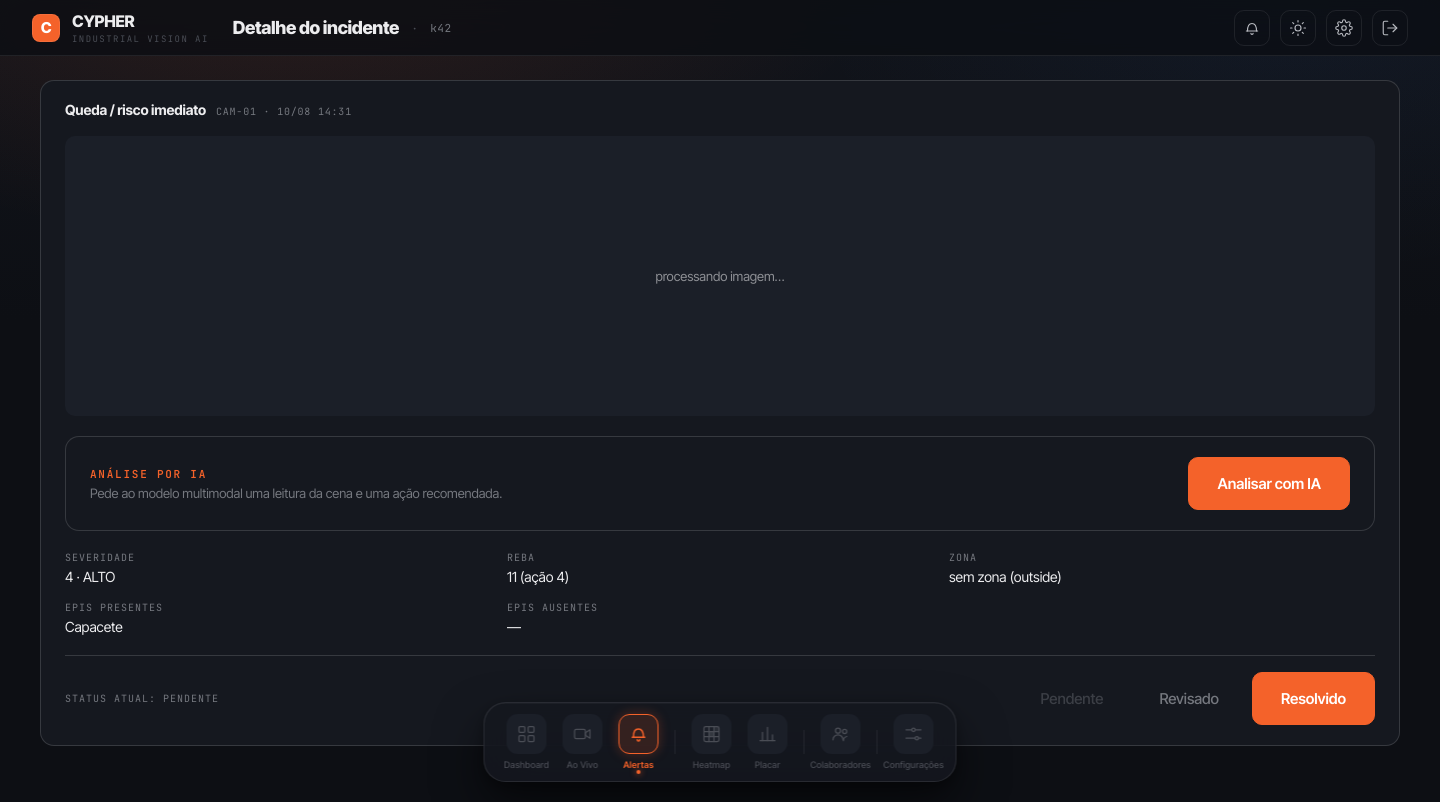
it: IncidentDetailComponent › gestor clica em Analisar com IA e ve o resultado estruturado
This screenshot has width=1440, height=802.
Step 1. Click the button "Analisar com IA" → (1269, 484), box x1=1188 y1=457 x2=1350 y2=510
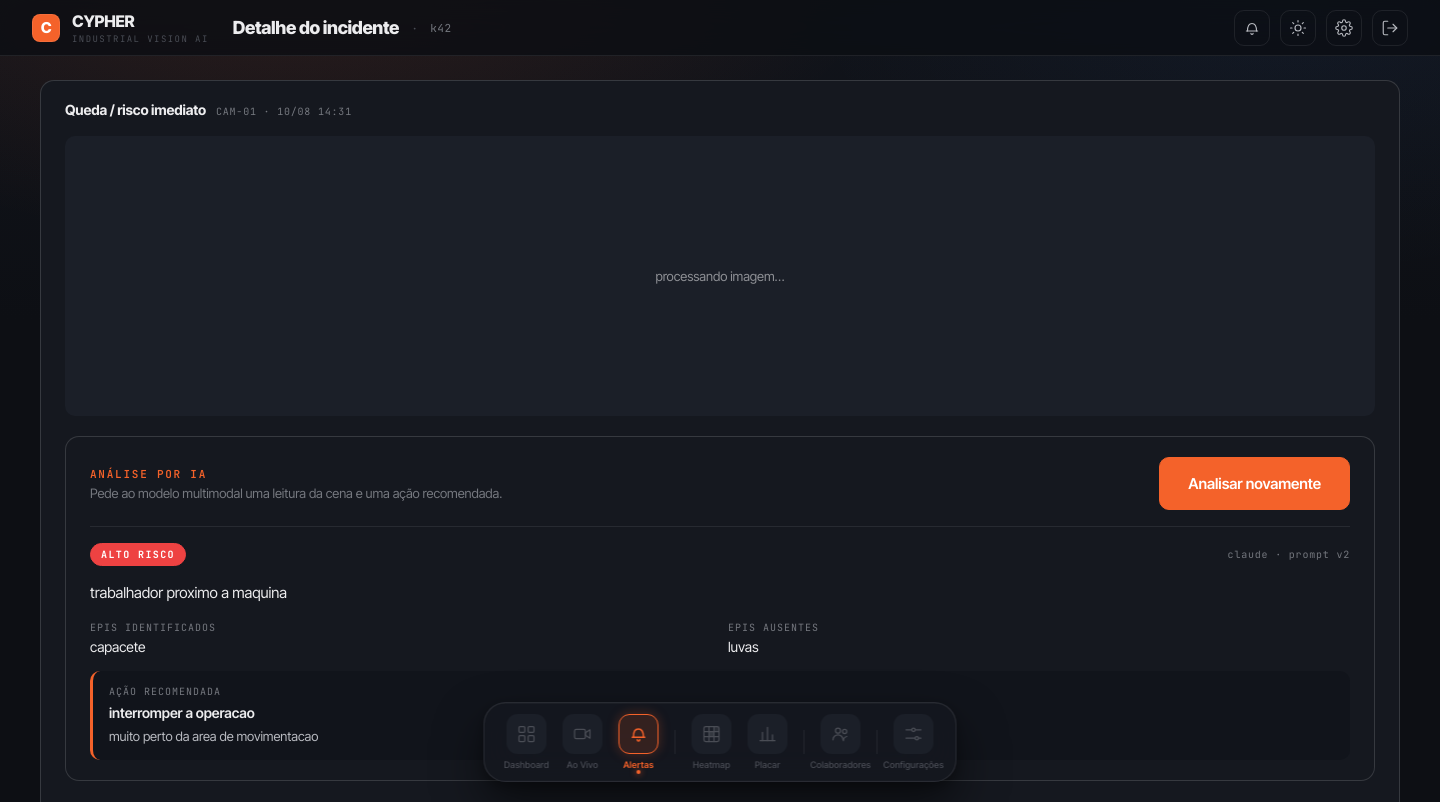
Expected: the text "trabalhador proximo a maquina" is shown, x1=90 y1=583 x2=287 y2=602
Expected: the text "interromper a operacao" is shown, x1=109 y1=704 x2=255 y2=720
